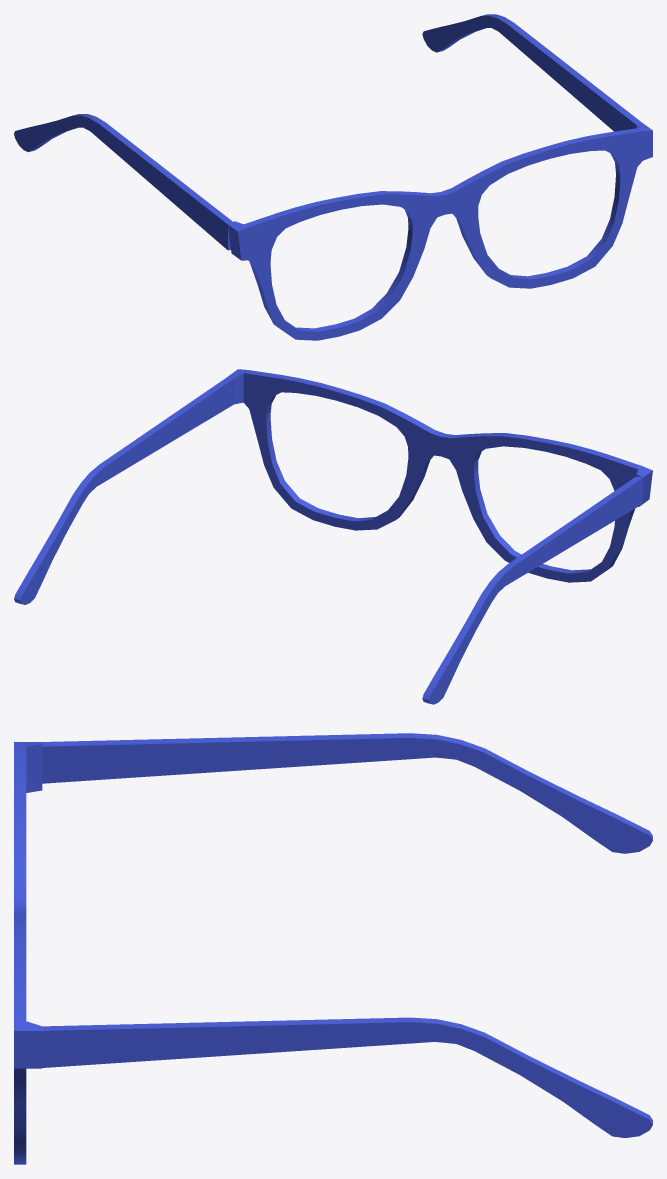
Rendered from glasses.fbx.
3 renders of one model, top to bottom at view 1: azimuth 30°, elevation 25°; view 2: azimuth 150°, elevation 25°; view 3: azimuth 270°, elevation 25°, orthographic. The views are drawn at different scales.
Visible parts, largest first — view 1: glasses_01; view 2: glasses_01; view 3: glasses_01.
Boxes of the visible parts, box(x1,y1,x2,y2) form: glasses_01: box(14, 14, 652, 340); glasses_01: box(14, 369, 652, 704); glasses_01: box(14, 733, 652, 1164).
Bounding box in the file's own units: 14.96 × 4.69 × 13.98.
